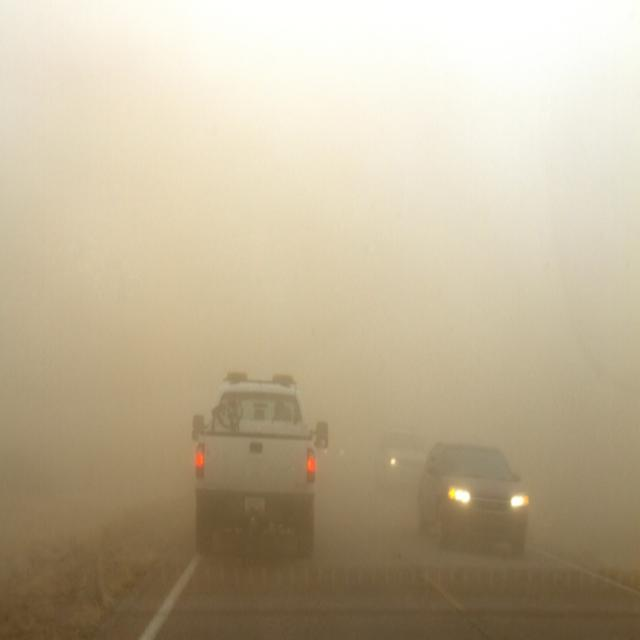car: (189, 367, 327, 558), (414, 439, 530, 559), (373, 426, 429, 498), (319, 420, 345, 464)
